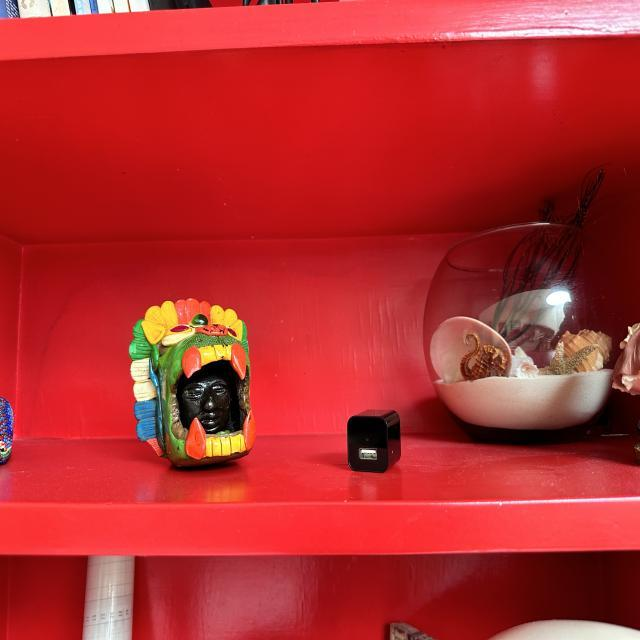hidden camera: (365, 436, 370, 442)
